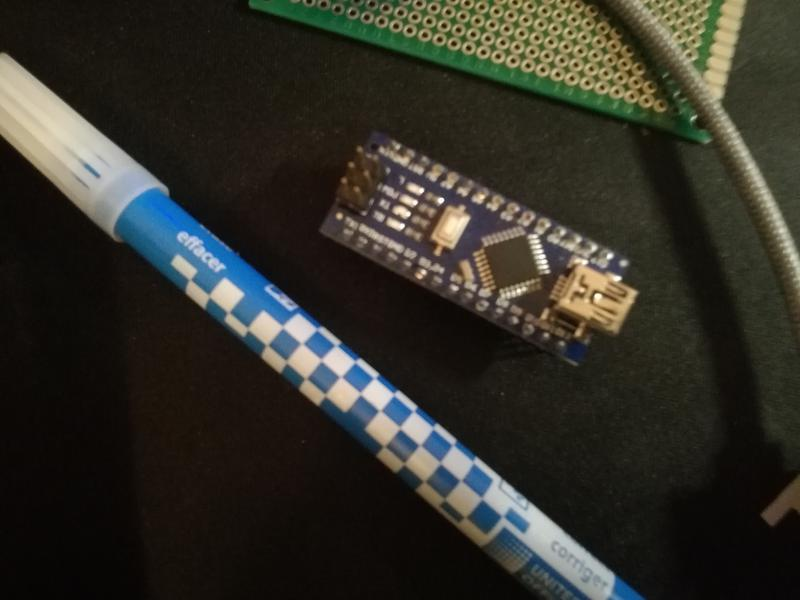Arduino_Nano: (316, 127, 642, 369)
